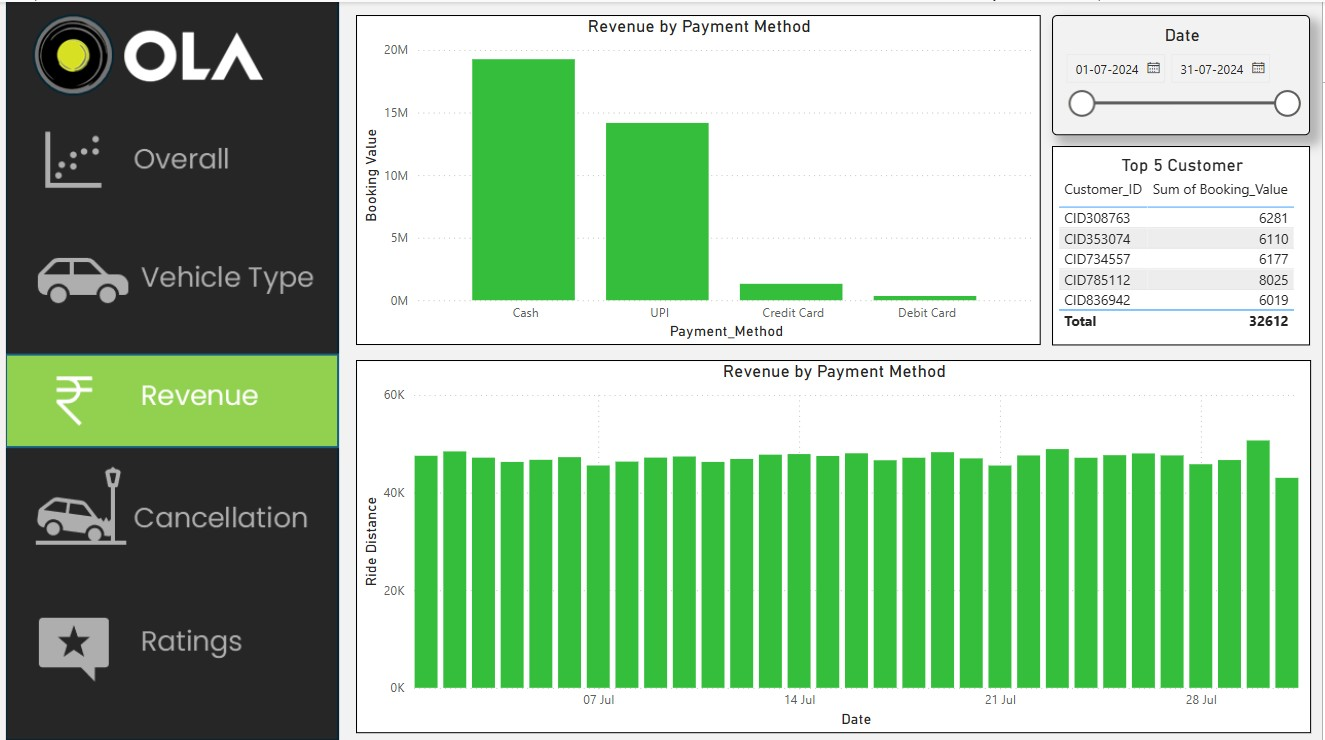

Layout of this report page (visuals, bound fields, positions):
{"tool":"powerbi","page":{"name":"Revenue","canvas":[1280,720],"ordinal":2},"visuals":[{"type":"actionButton","box":[0,213.3,322.2,112.2],"z":0},{"type":"actionButton","box":[0,444.4,322.2,111.1],"z":1000},{"type":"actionButton","box":[0,566.7,322.2,110],"z":2000},{"type":"actionButton","box":[0,102.2,322.2,111.1],"z":3000},{"type":"columnChart","title":"Revenue by Payment Method","fields":{"Y":["Sum(July.Booking_Value)"],"Category":["July.Payment_Method"]},"box":[340,12.9,665.7,321.4],"z":4000},{"type":"columnChart","title":"Revenue by Payment Method","fields":{"Y":["Sum(July.Ride_Distance)"],"Category":["July.Date"]},"box":[340,348.6,928.6,362.9],"z":5000},{"type":"slicer","title":"Date","fields":{"Values":["July.Date"]},"box":[1017.1,12.9,251.4,117.1],"z":6000},{"type":"tableEx","title":"Top 5 Customer","fields":{"Values":["July.Customer_ID","Sum(July.Booking_Value)"]},"box":[1017.1,140,251.4,194.3],"z":7000}]}

Visuals, with their boxes in screenshot pixels (x1, y1, x2, y2), scaled from the page's 1280x720 canvas onto the 1325x740 screenshot:
actionButton: bbox=(0, 219, 334, 335)
actionButton: bbox=(0, 457, 334, 571)
actionButton: bbox=(0, 582, 334, 695)
actionButton: bbox=(0, 105, 334, 219)
"Revenue by Payment Method" columnChart: bbox=(352, 13, 1041, 344)
"Revenue by Payment Method" columnChart: bbox=(352, 358, 1313, 731)
"Date" slicer: bbox=(1053, 13, 1313, 134)
"Top 5 Customer" tableEx: bbox=(1053, 144, 1313, 344)
